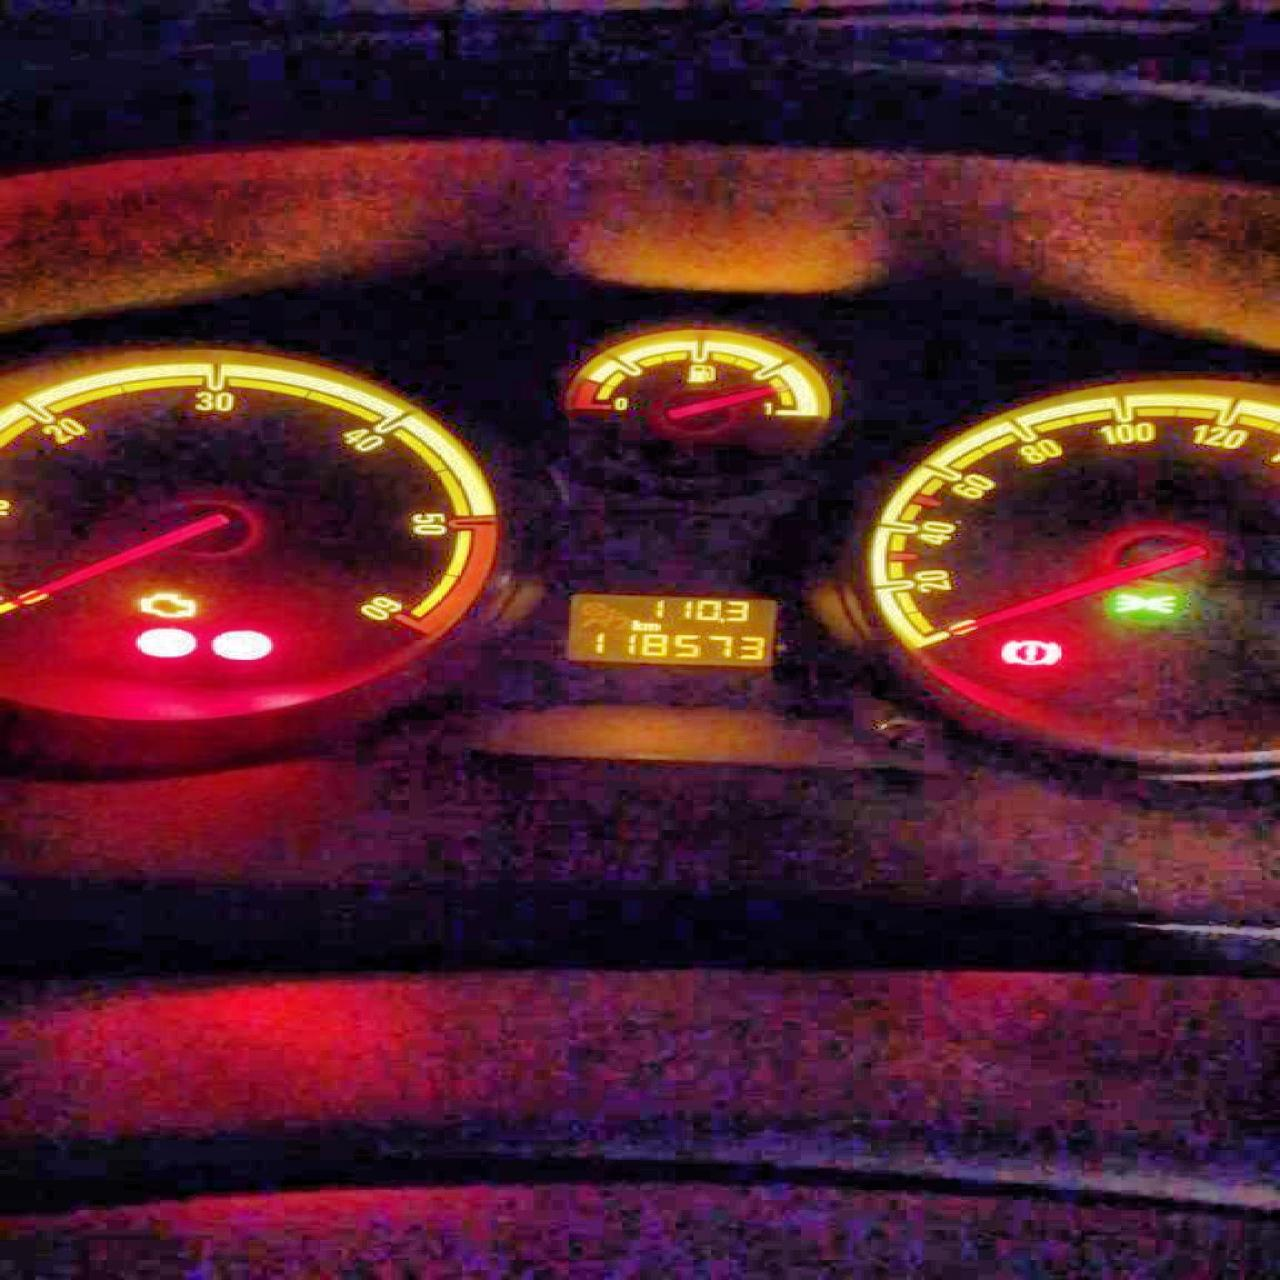-: (715, 617, 724, 622)
0: (693, 599, 717, 620)
1: (588, 629, 607, 655), (622, 631, 635, 655), (678, 598, 692, 619), (652, 597, 665, 619)
3: (734, 635, 764, 660), (722, 599, 749, 621)
5: (669, 633, 700, 658)
7: (702, 633, 734, 659)
8: (638, 633, 669, 656)
X: (642, 621, 658, 631), (629, 618, 640, 631)
odometer: (556, 587, 787, 668)
